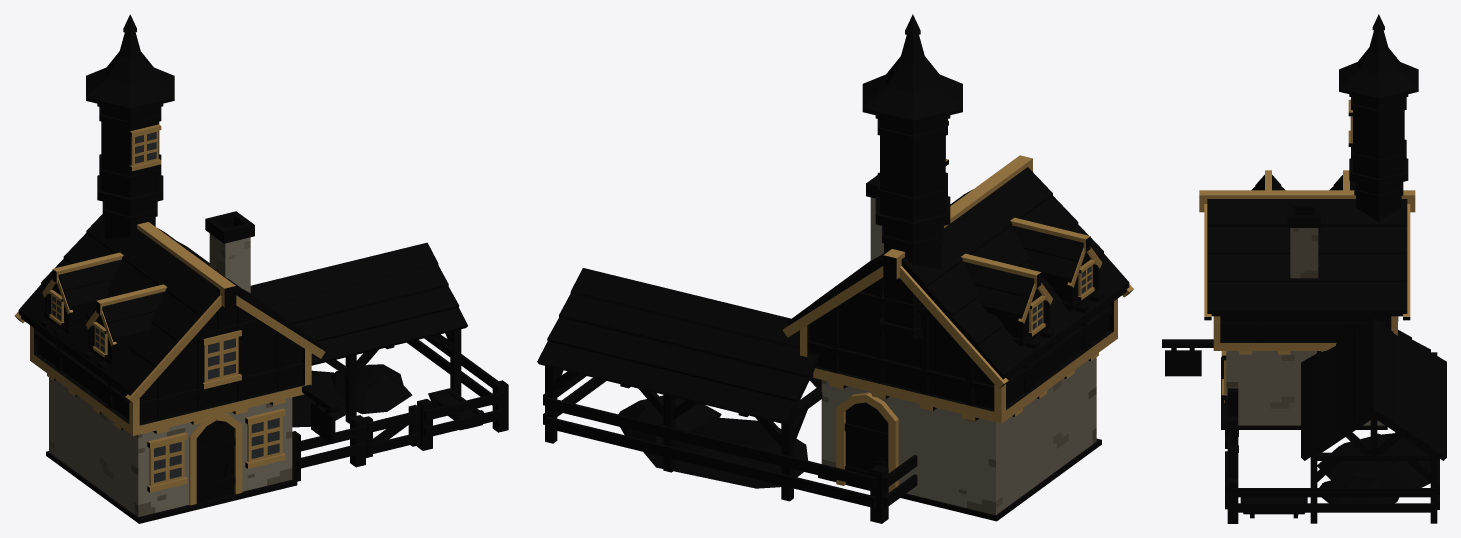
The model's file is House_Stables.gltf.
The picture shows the model from 3 angles, left to right: view 1: azimuth 30°, elevation 25°; view 2: azimuth 150°, elevation 25°; view 3: azimuth 270°, elevation 25°; orthographic projection. The views are drawn at different scales.
Visible parts, largest first — view 1: SF_Bld_House_Stables_01; view 2: SF_Bld_House_Stables_01; view 3: SF_Bld_House_Stables_01.
Part boxes in pixels (x1,y1,x2,y2): SF_Bld_House_Stables_01: [14, 14, 508, 523]; SF_Bld_House_Stables_01: [537, 14, 1133, 523]; SF_Bld_House_Stables_01: [1162, 14, 1446, 523].
Size of the model in its own units: 0.2001 by 0.2069 by 0.1397.
1 material, 1 textured.
